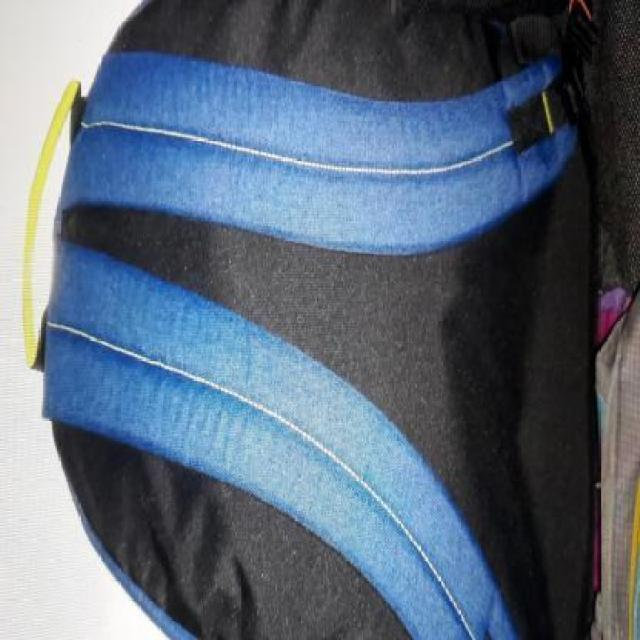backpack: (16, 0, 610, 640)
